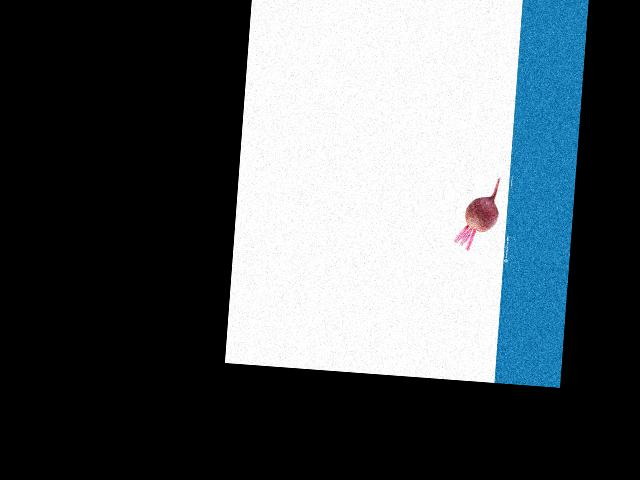beet: (454, 174, 500, 251)
